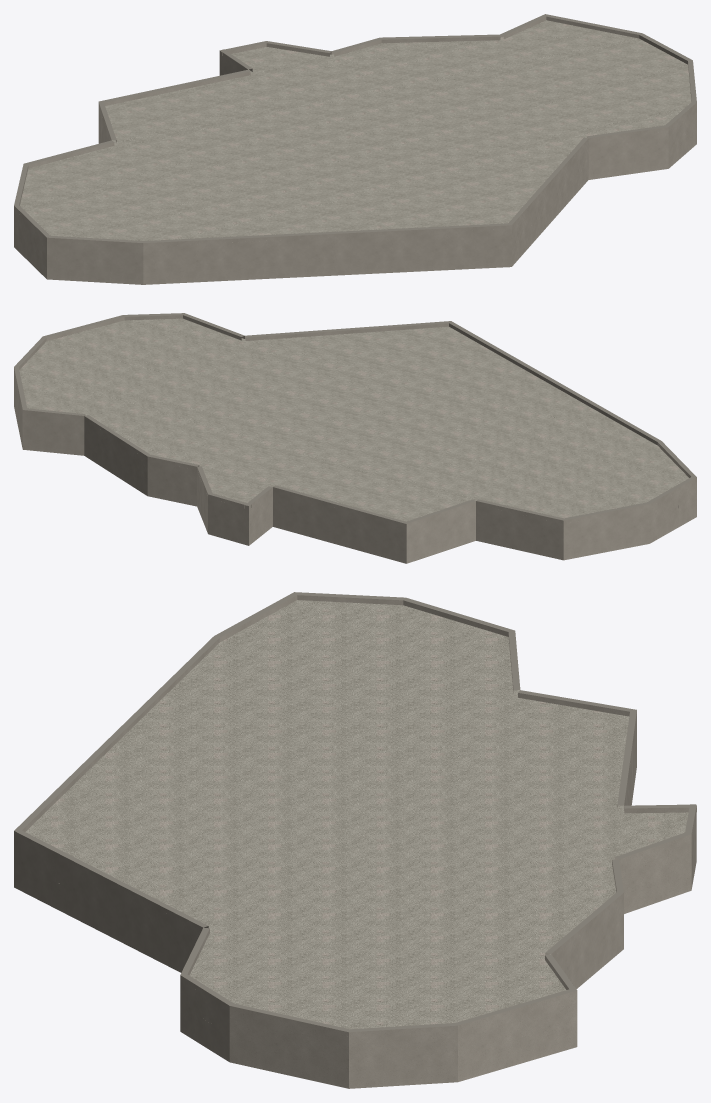
3 renders of one model, top to bottom at view 1: azimuth 30°, elevation 25°; view 2: azimuth 150°, elevation 25°; view 3: azimuth 270°, elevation 25°, orthographic. The views are drawn at different scales.
Visible parts, largest first — view 1: B-w769139281_lejos, B-w769139281_muros, B-w769139281_cubierta; view 2: B-w769139281_lejos, B-w769139281_muros, B-w769139281_cubierta; view 3: B-w769139281_lejos, B-w769139281_muros, B-w769139281_cubierta.
Boxes of the visible parts, box(x1,y1,x2,y2) form: B-w769139281_lejos: box(14, 20, 691, 284); B-w769139281_muros: box(14, 34, 696, 284); B-w769139281_cubierta: box(14, 14, 696, 242); B-w769139281_lejos: box(14, 318, 696, 563); B-w769139281_muros: box(14, 314, 696, 557); B-w769139281_cubierta: box(14, 313, 696, 523); B-w769139281_lejos: box(14, 600, 694, 1088); B-w769139281_muros: box(14, 711, 696, 1087); B-w769139281_cubierta: box(14, 592, 696, 1032).
Size of the model in its own units: 38.4 by 2.3 by 25.18.
4 materials, 2 textured.
